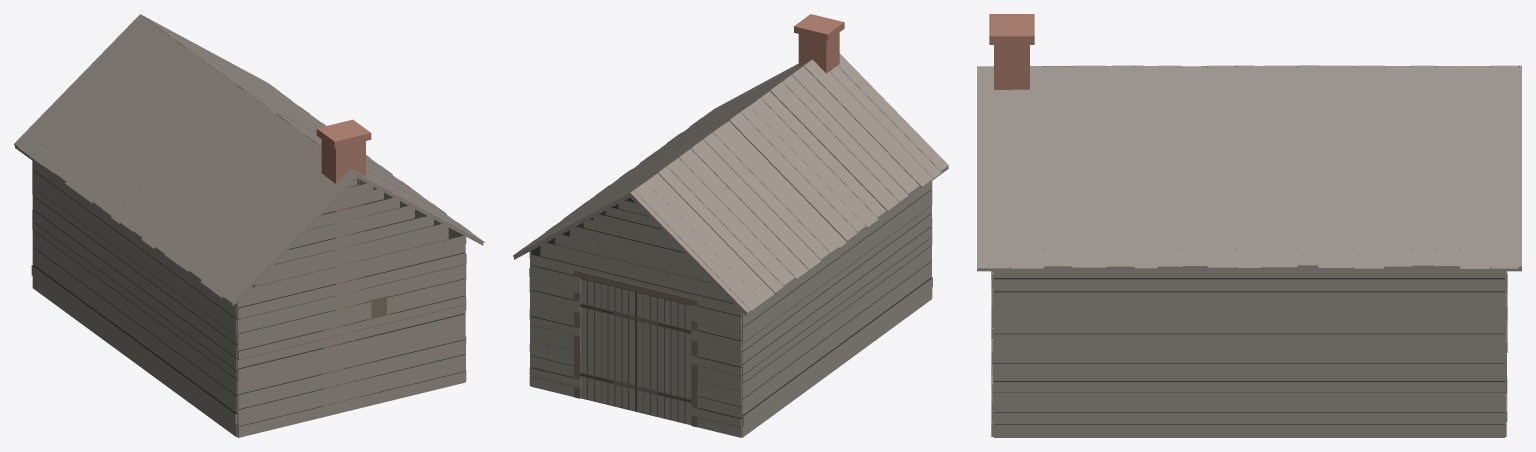
File: inf_blacksmith_shop_west__inferred_1835.glb
The picture shows the model from 3 angles, left to right: view 1: azimuth 30°, elevation 25°; view 2: azimuth 150°, elevation 25°; view 3: azimuth 270°, elevation 25°; orthographic projection. The views are drawn at different scales.
Visible parts, largest first — view 1: inf_blacksmith_shop_west__inferred_1835; view 2: inf_blacksmith_shop_west__inferred_1835; view 3: inf_blacksmith_shop_west__inferred_1835.
Part boxes in pixels (x1,y1,x2,y2): inf_blacksmith_shop_west__inferred_1835: [14, 14, 484, 437]; inf_blacksmith_shop_west__inferred_1835: [513, 14, 948, 437]; inf_blacksmith_shop_west__inferred_1835: [977, 14, 1521, 437].
Bounding box in the file's own units: 6.17 × 6.31 × 9.1.
